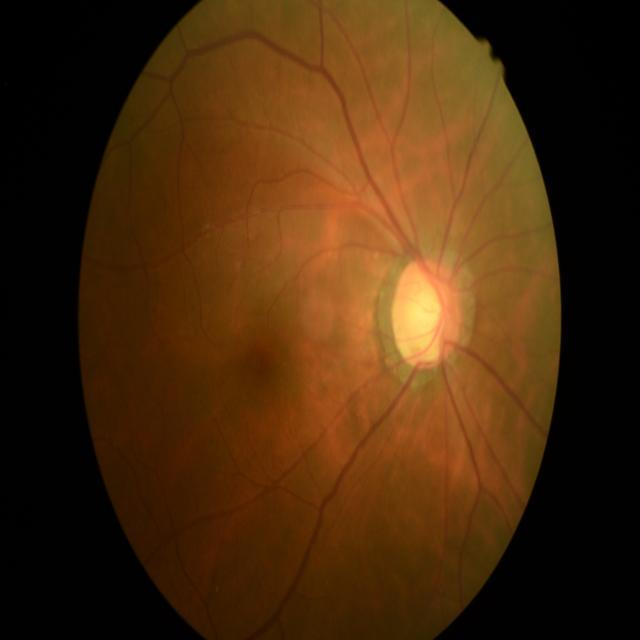cup: (399, 275, 446, 362)
disk: (391, 255, 462, 372)
